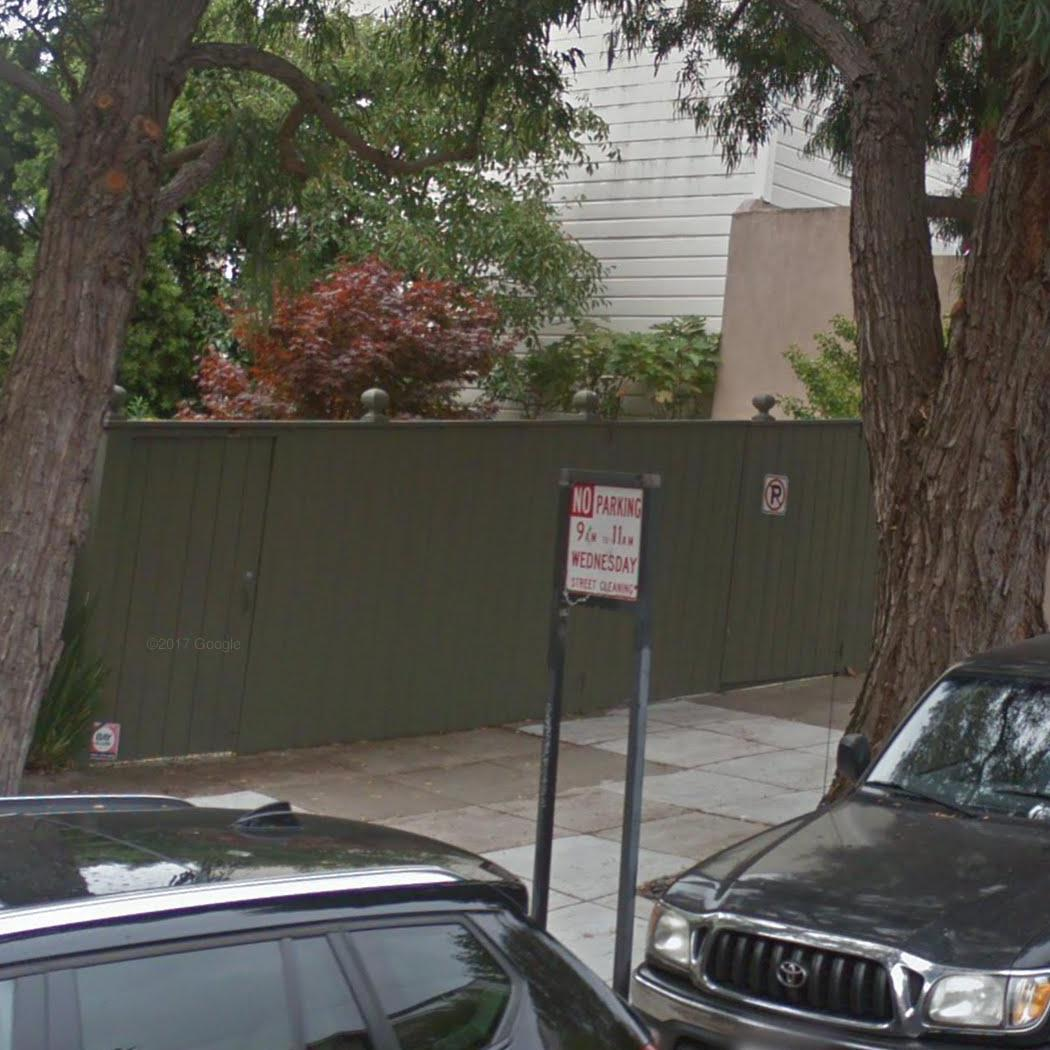No Parking: (560, 474, 646, 604)
